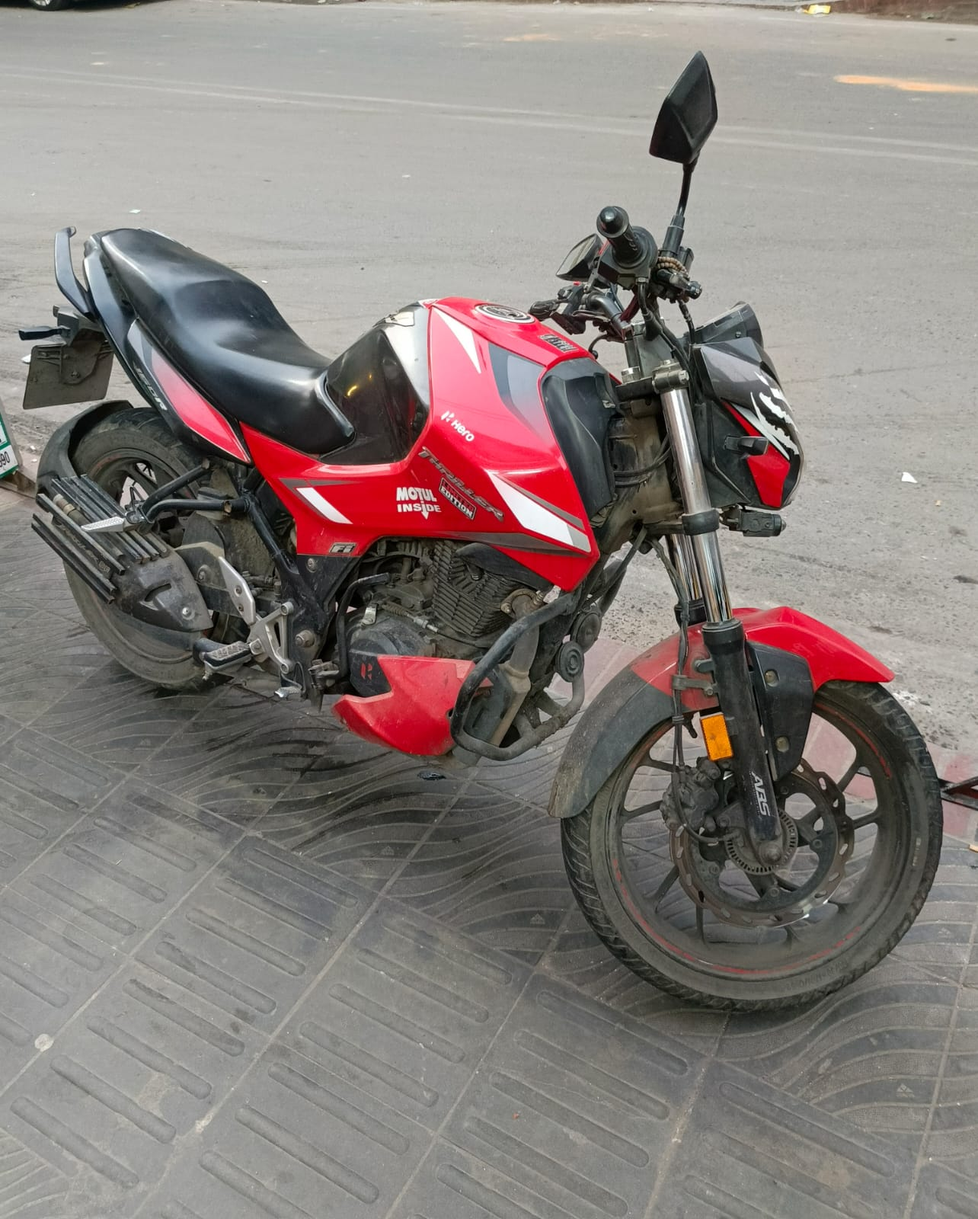Bikes: (23, 61, 933, 1017)
